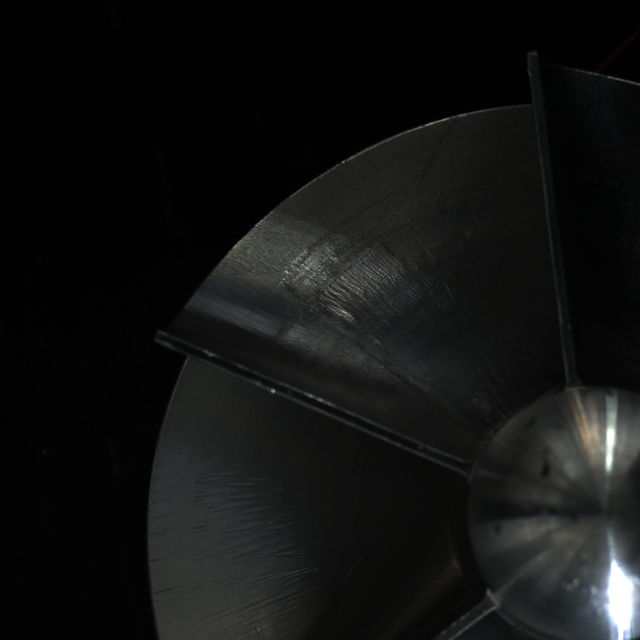wrinkle: (195, 468, 335, 612), (300, 249, 444, 338), (451, 164, 551, 225)
